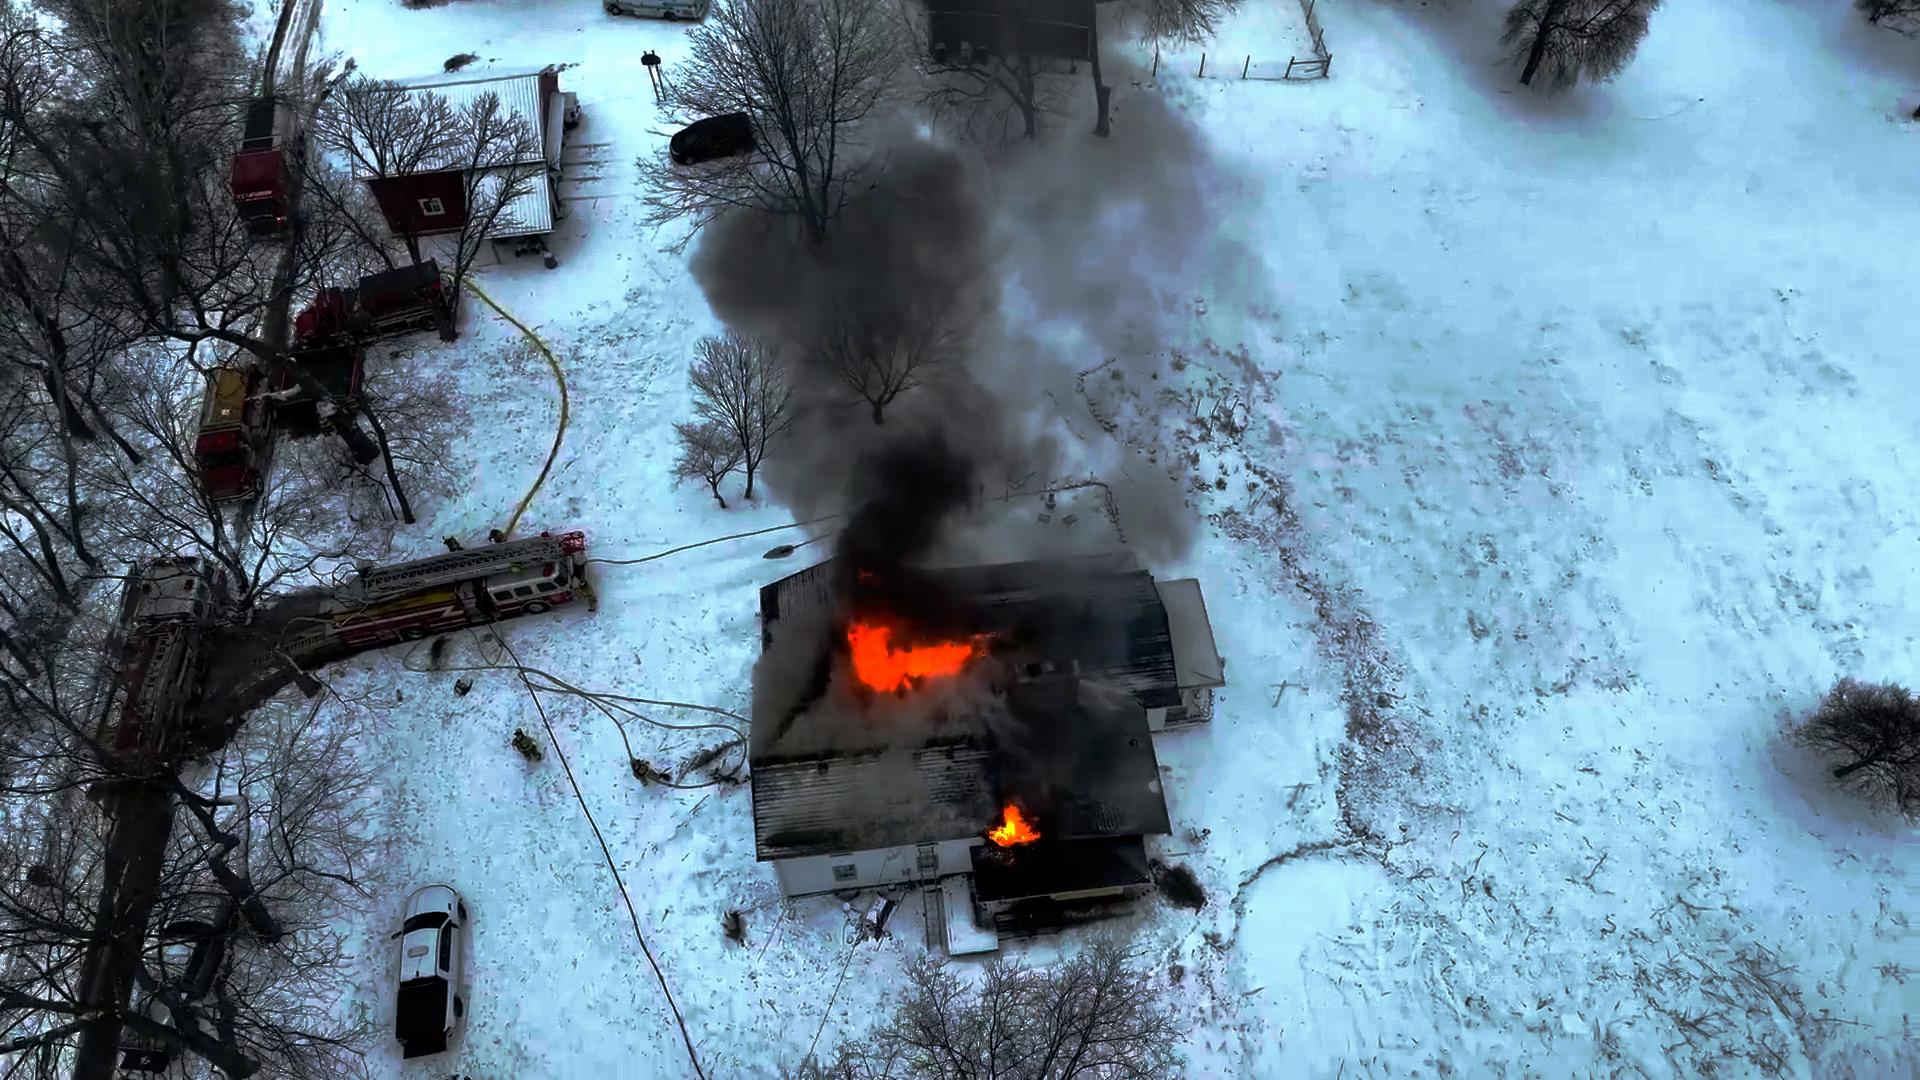fire: (831, 596, 993, 684), (988, 803, 1044, 866)
smoke: (823, 373, 959, 587)
